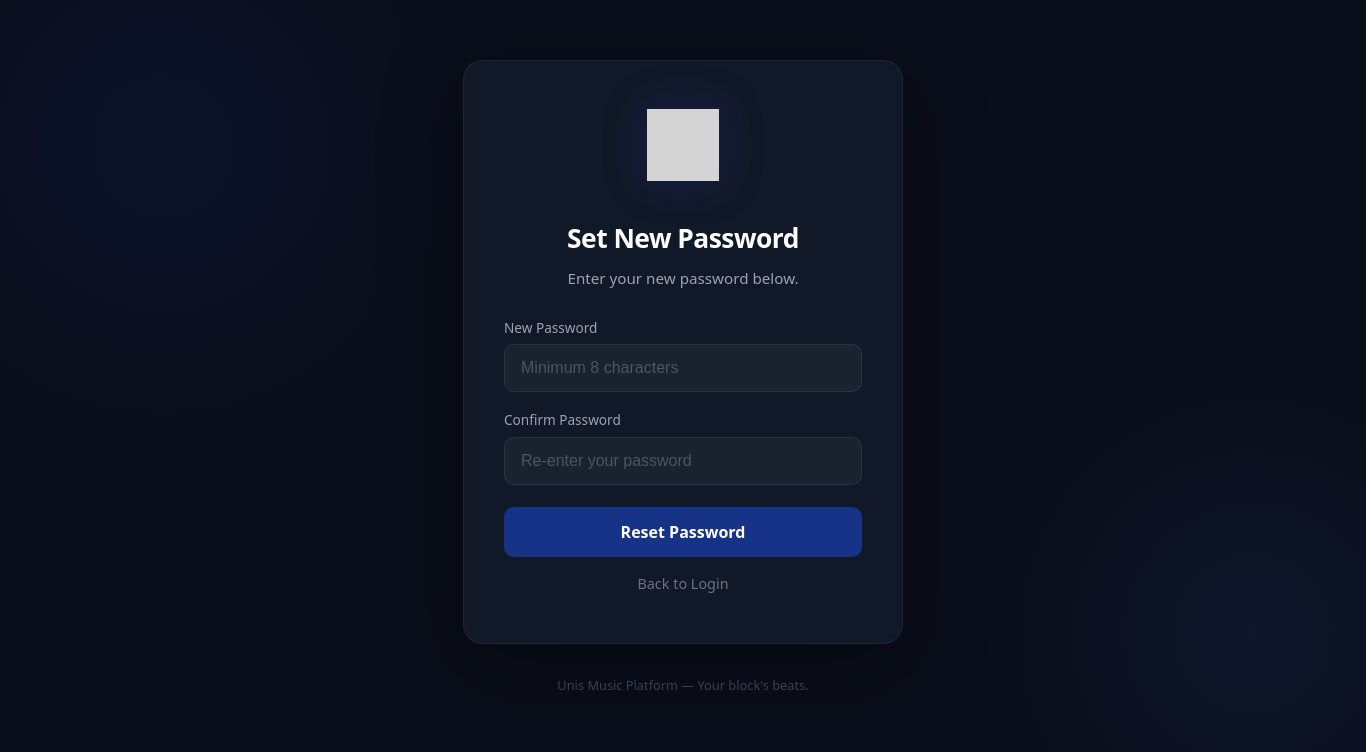
Test: client-side validation › blocks submission and shows error when passwords do not match
Type "password123" into the password field with placeholder "Minimum 8 characters".
click(683, 368); type("password123")  # box [504, 344, 862, 392]
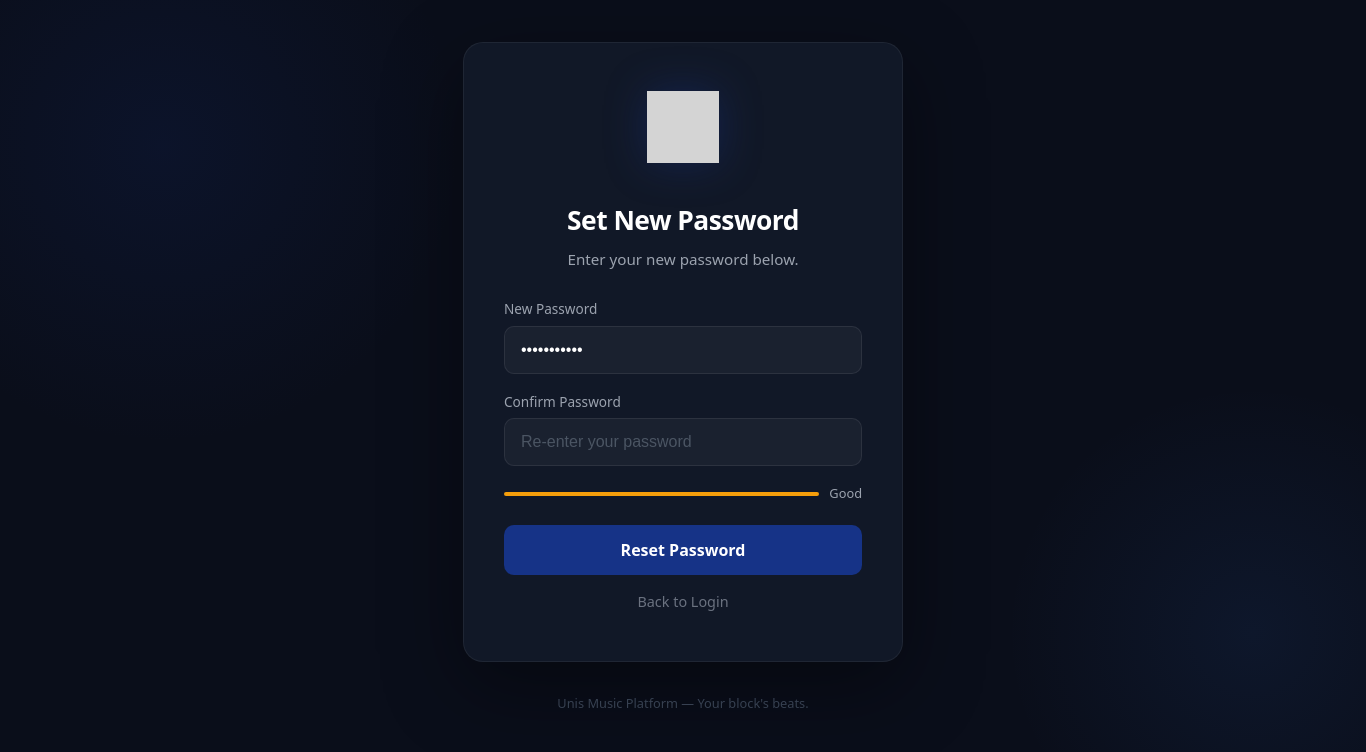
Type "different123" into the password field with placeholder "Re-enter your password".
click(683, 442); type("different123")  # box [504, 418, 862, 466]
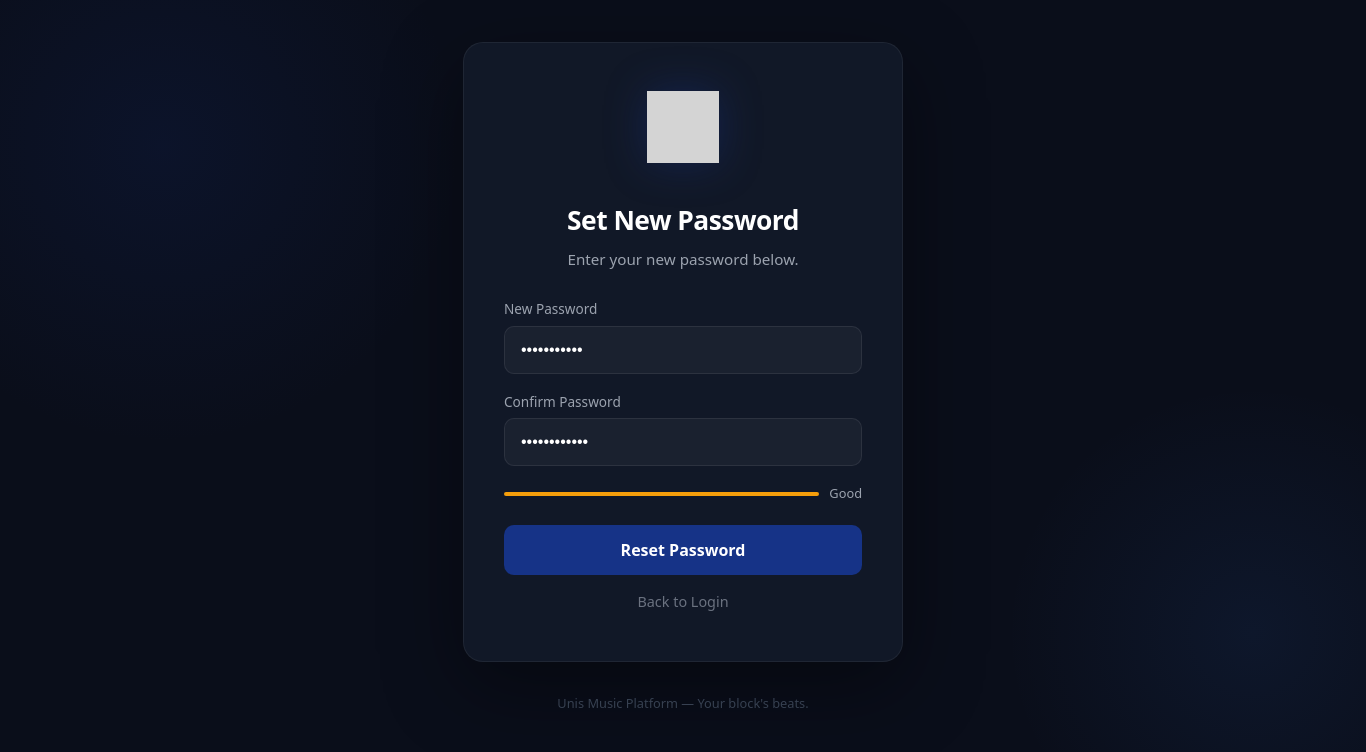
Click the button "Reset Password".
click(683, 550)  # box [504, 525, 862, 575]
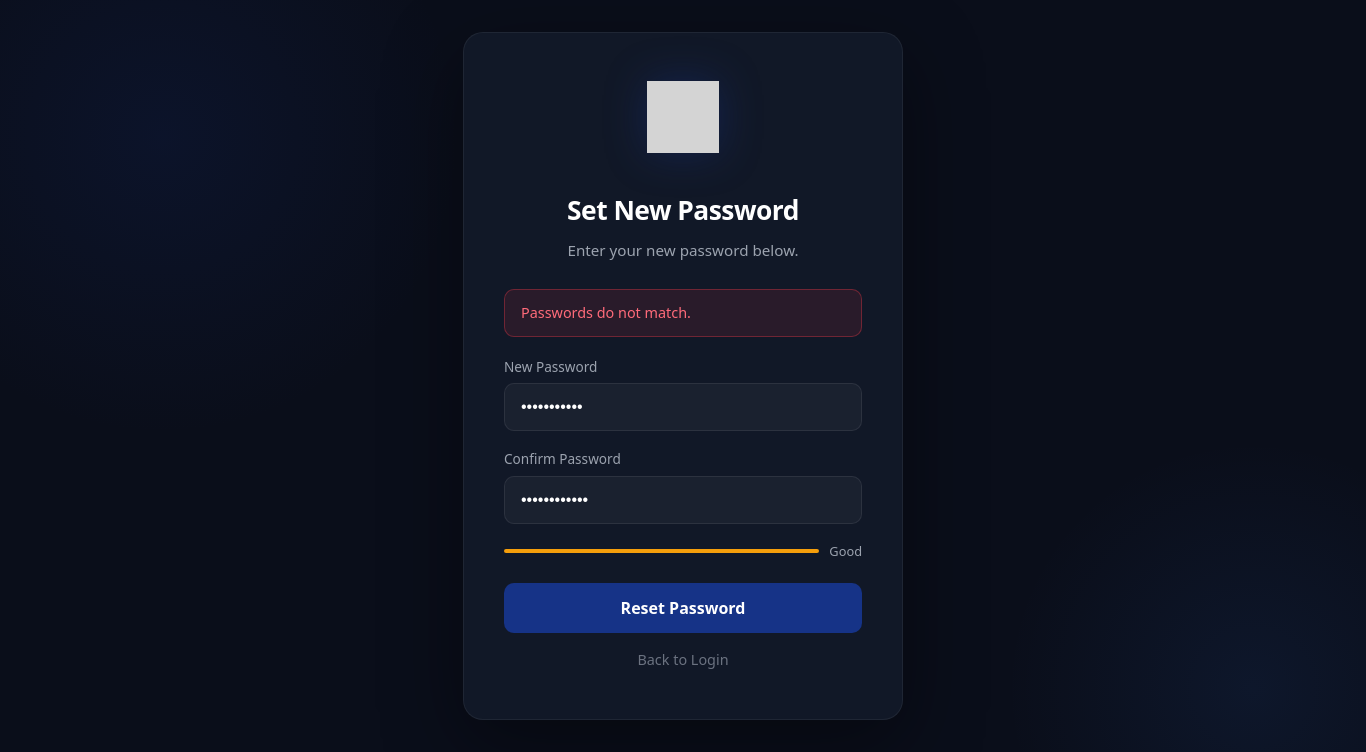
Expected: the text "Passwords do not match." is shown, [504, 289, 862, 337]
